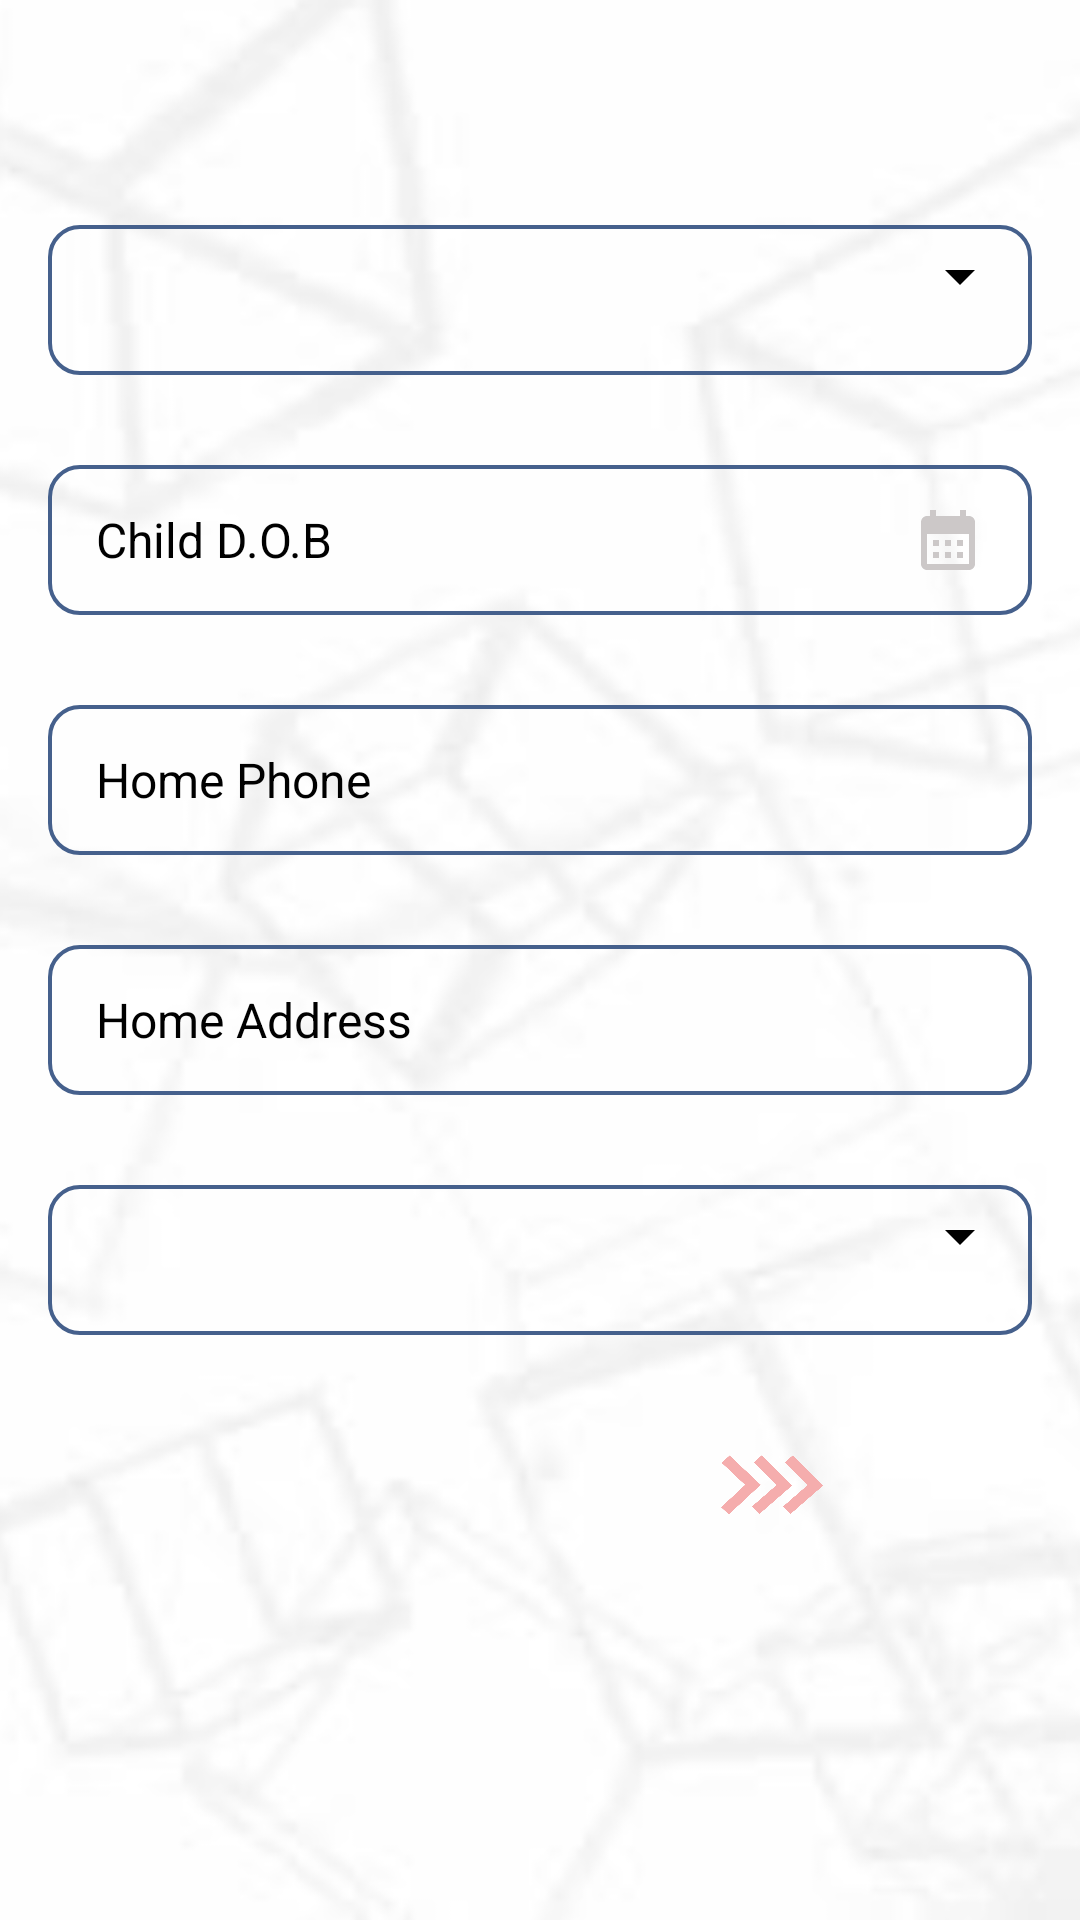

Icons on this 1080*1920 Android screen, each with its box as (x1, y1, x2, y2):
arrow group: (721, 1455, 823, 1514)
